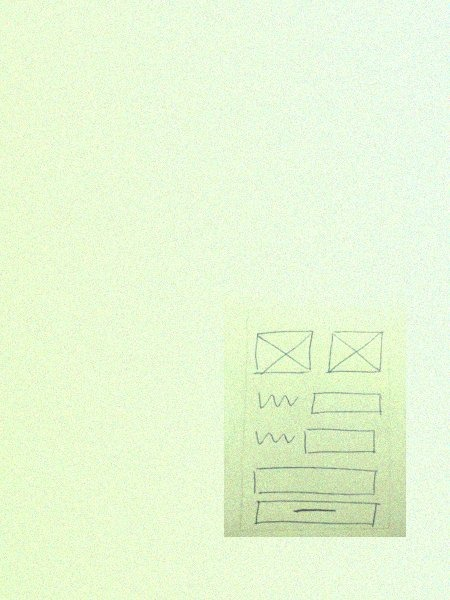button: (252, 499, 381, 528)
image: (324, 327, 387, 376), (252, 329, 317, 376)
text: (254, 387, 302, 413), (252, 426, 300, 451)
text_input: (250, 464, 380, 498), (301, 426, 379, 457), (309, 389, 387, 420)
